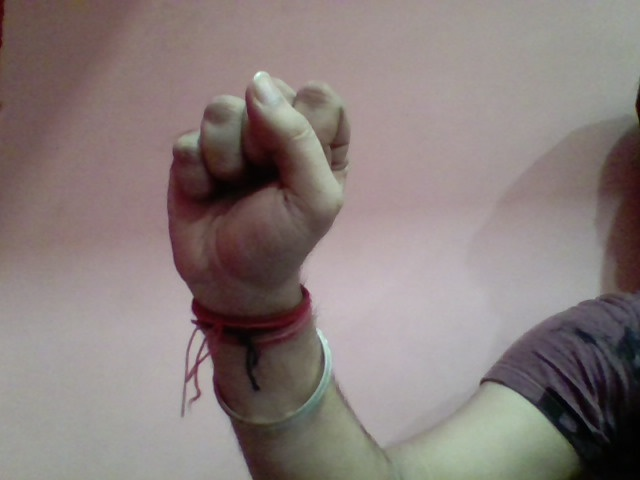s: (153, 62, 360, 307)
